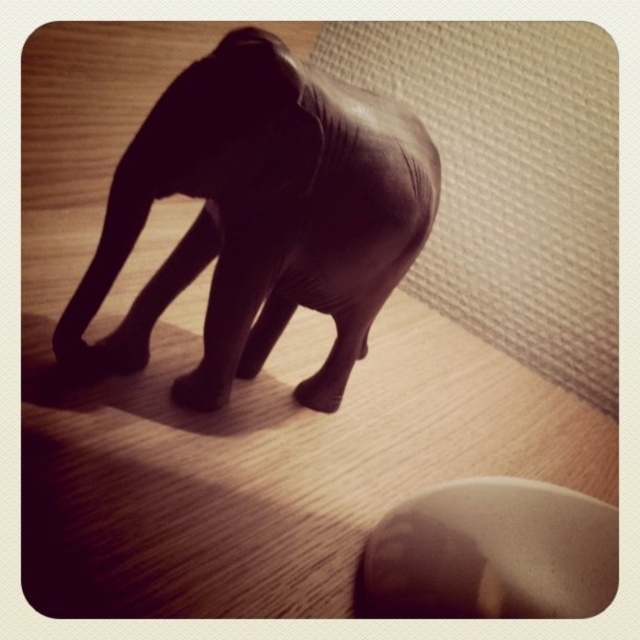Elephant: (56, 27, 439, 433)
